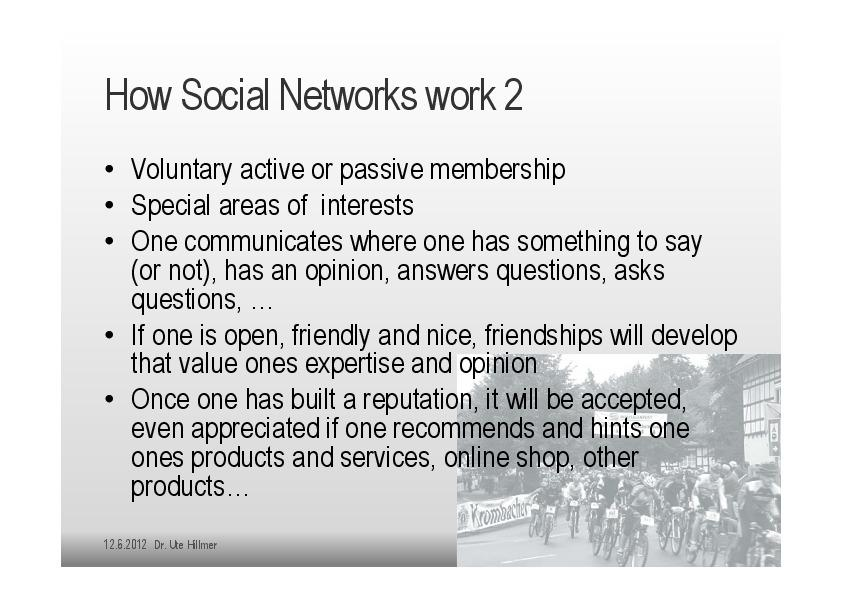paragraph: (98, 150, 758, 516)
subtitle: (92, 531, 252, 576)
title: (91, 65, 537, 136)
